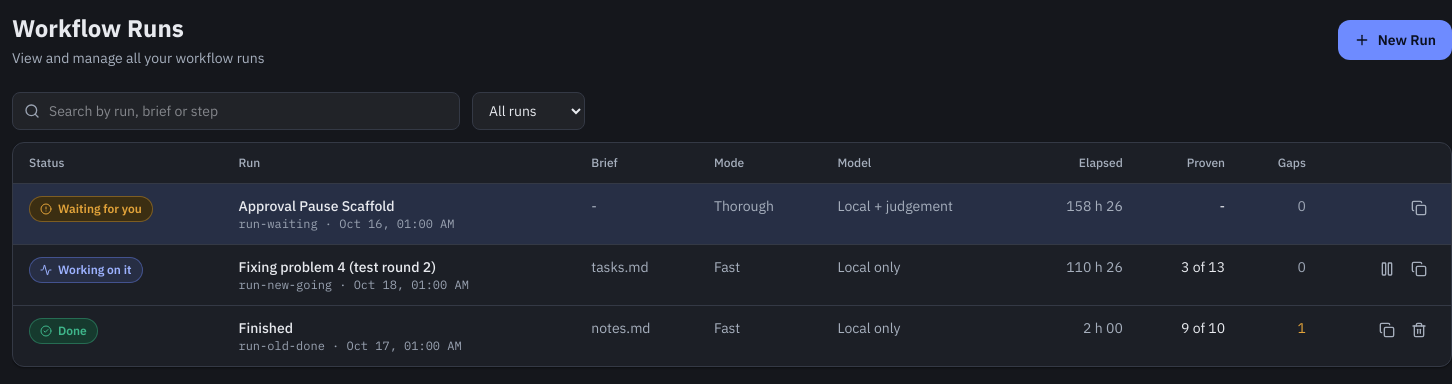
the runs table › searches by brief and says so when nothing matches
The width and height of the screenshot is (1452, 384).
Type "nothing-like-this" into the search field named "Search runs" at (236, 111), box top-left (12, 92), bottom-right (460, 130)
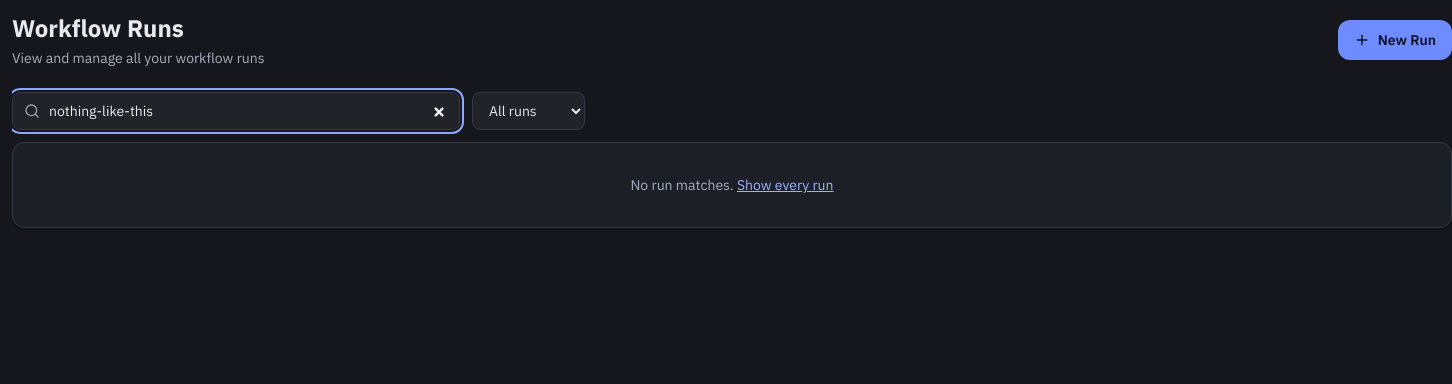
Check: the text "No run matches. Show every run" is shown, box top-left (12, 142), bottom-right (1451, 228)
